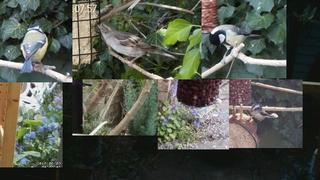blue tit: (20, 24, 48, 73)
great tit: (209, 24, 262, 65)
long tailed tit: (247, 103, 279, 125)
sparrow: (96, 22, 178, 69)
